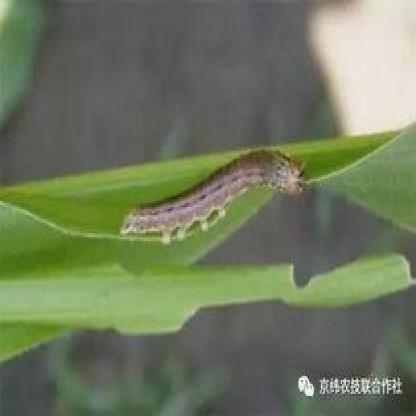armyworm: (117, 145, 308, 242)
